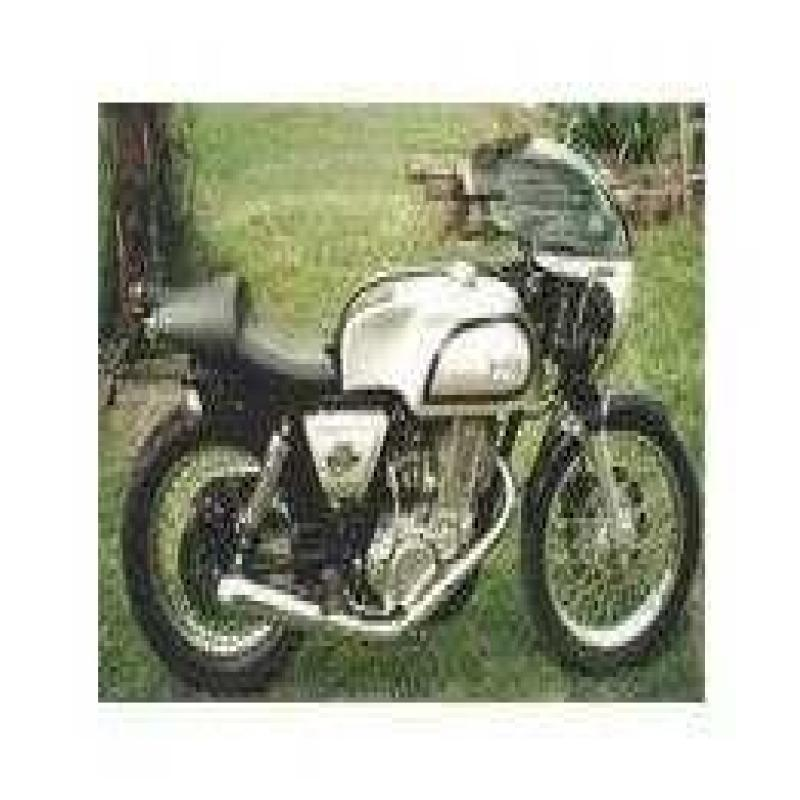bike: (100, 93, 700, 704)
